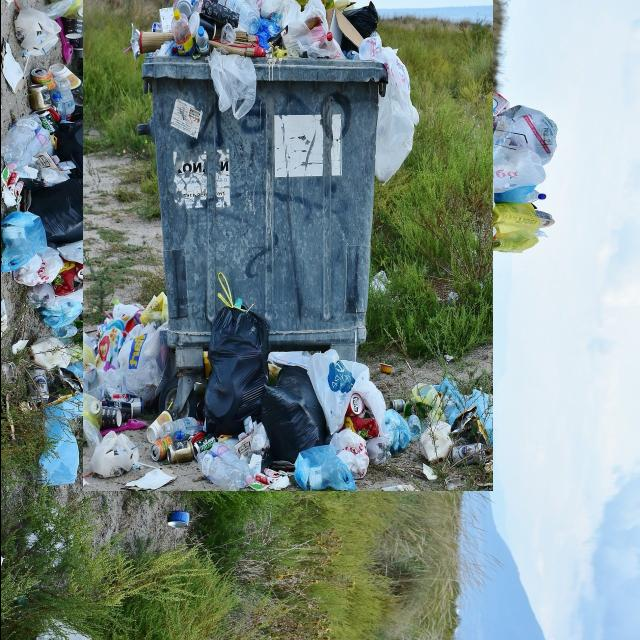garbage: (41, 0, 533, 451)
